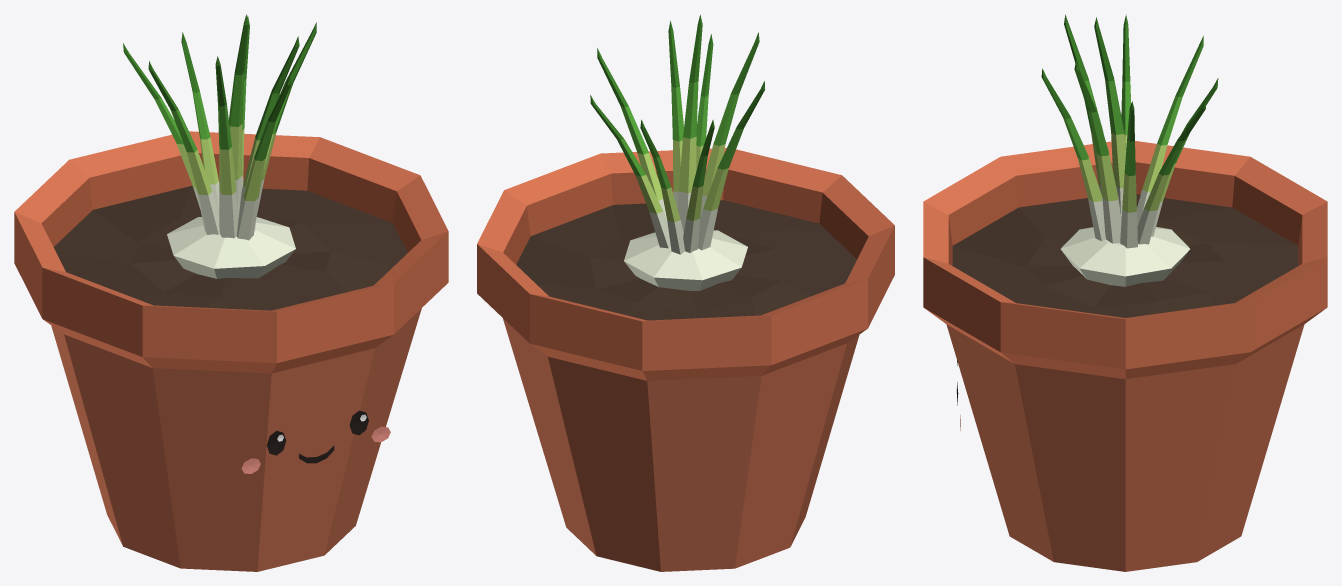
The model's file is onion_3.glb.
3 views of the same model, side by side, from view 1: azimuth 30°, elevation 25°; view 2: azimuth 150°, elevation 25°; view 3: azimuth 270°, elevation 25° (orthographic). The views are drawn at different scales.
Visible parts, largest first — view 1: Onion_Stage3_Maturing; view 2: Onion_Stage3_Maturing; view 3: Onion_Stage3_Maturing.
Boxes of the visible parts, box(x1,y1,x2,y2) form: Onion_Stage3_Maturing: box(14, 14, 448, 571); Onion_Stage3_Maturing: box(477, 14, 894, 571); Onion_Stage3_Maturing: box(923, 14, 1327, 571).
Size of the model in its own units: 1.92 by 2.51 by 1.83.
